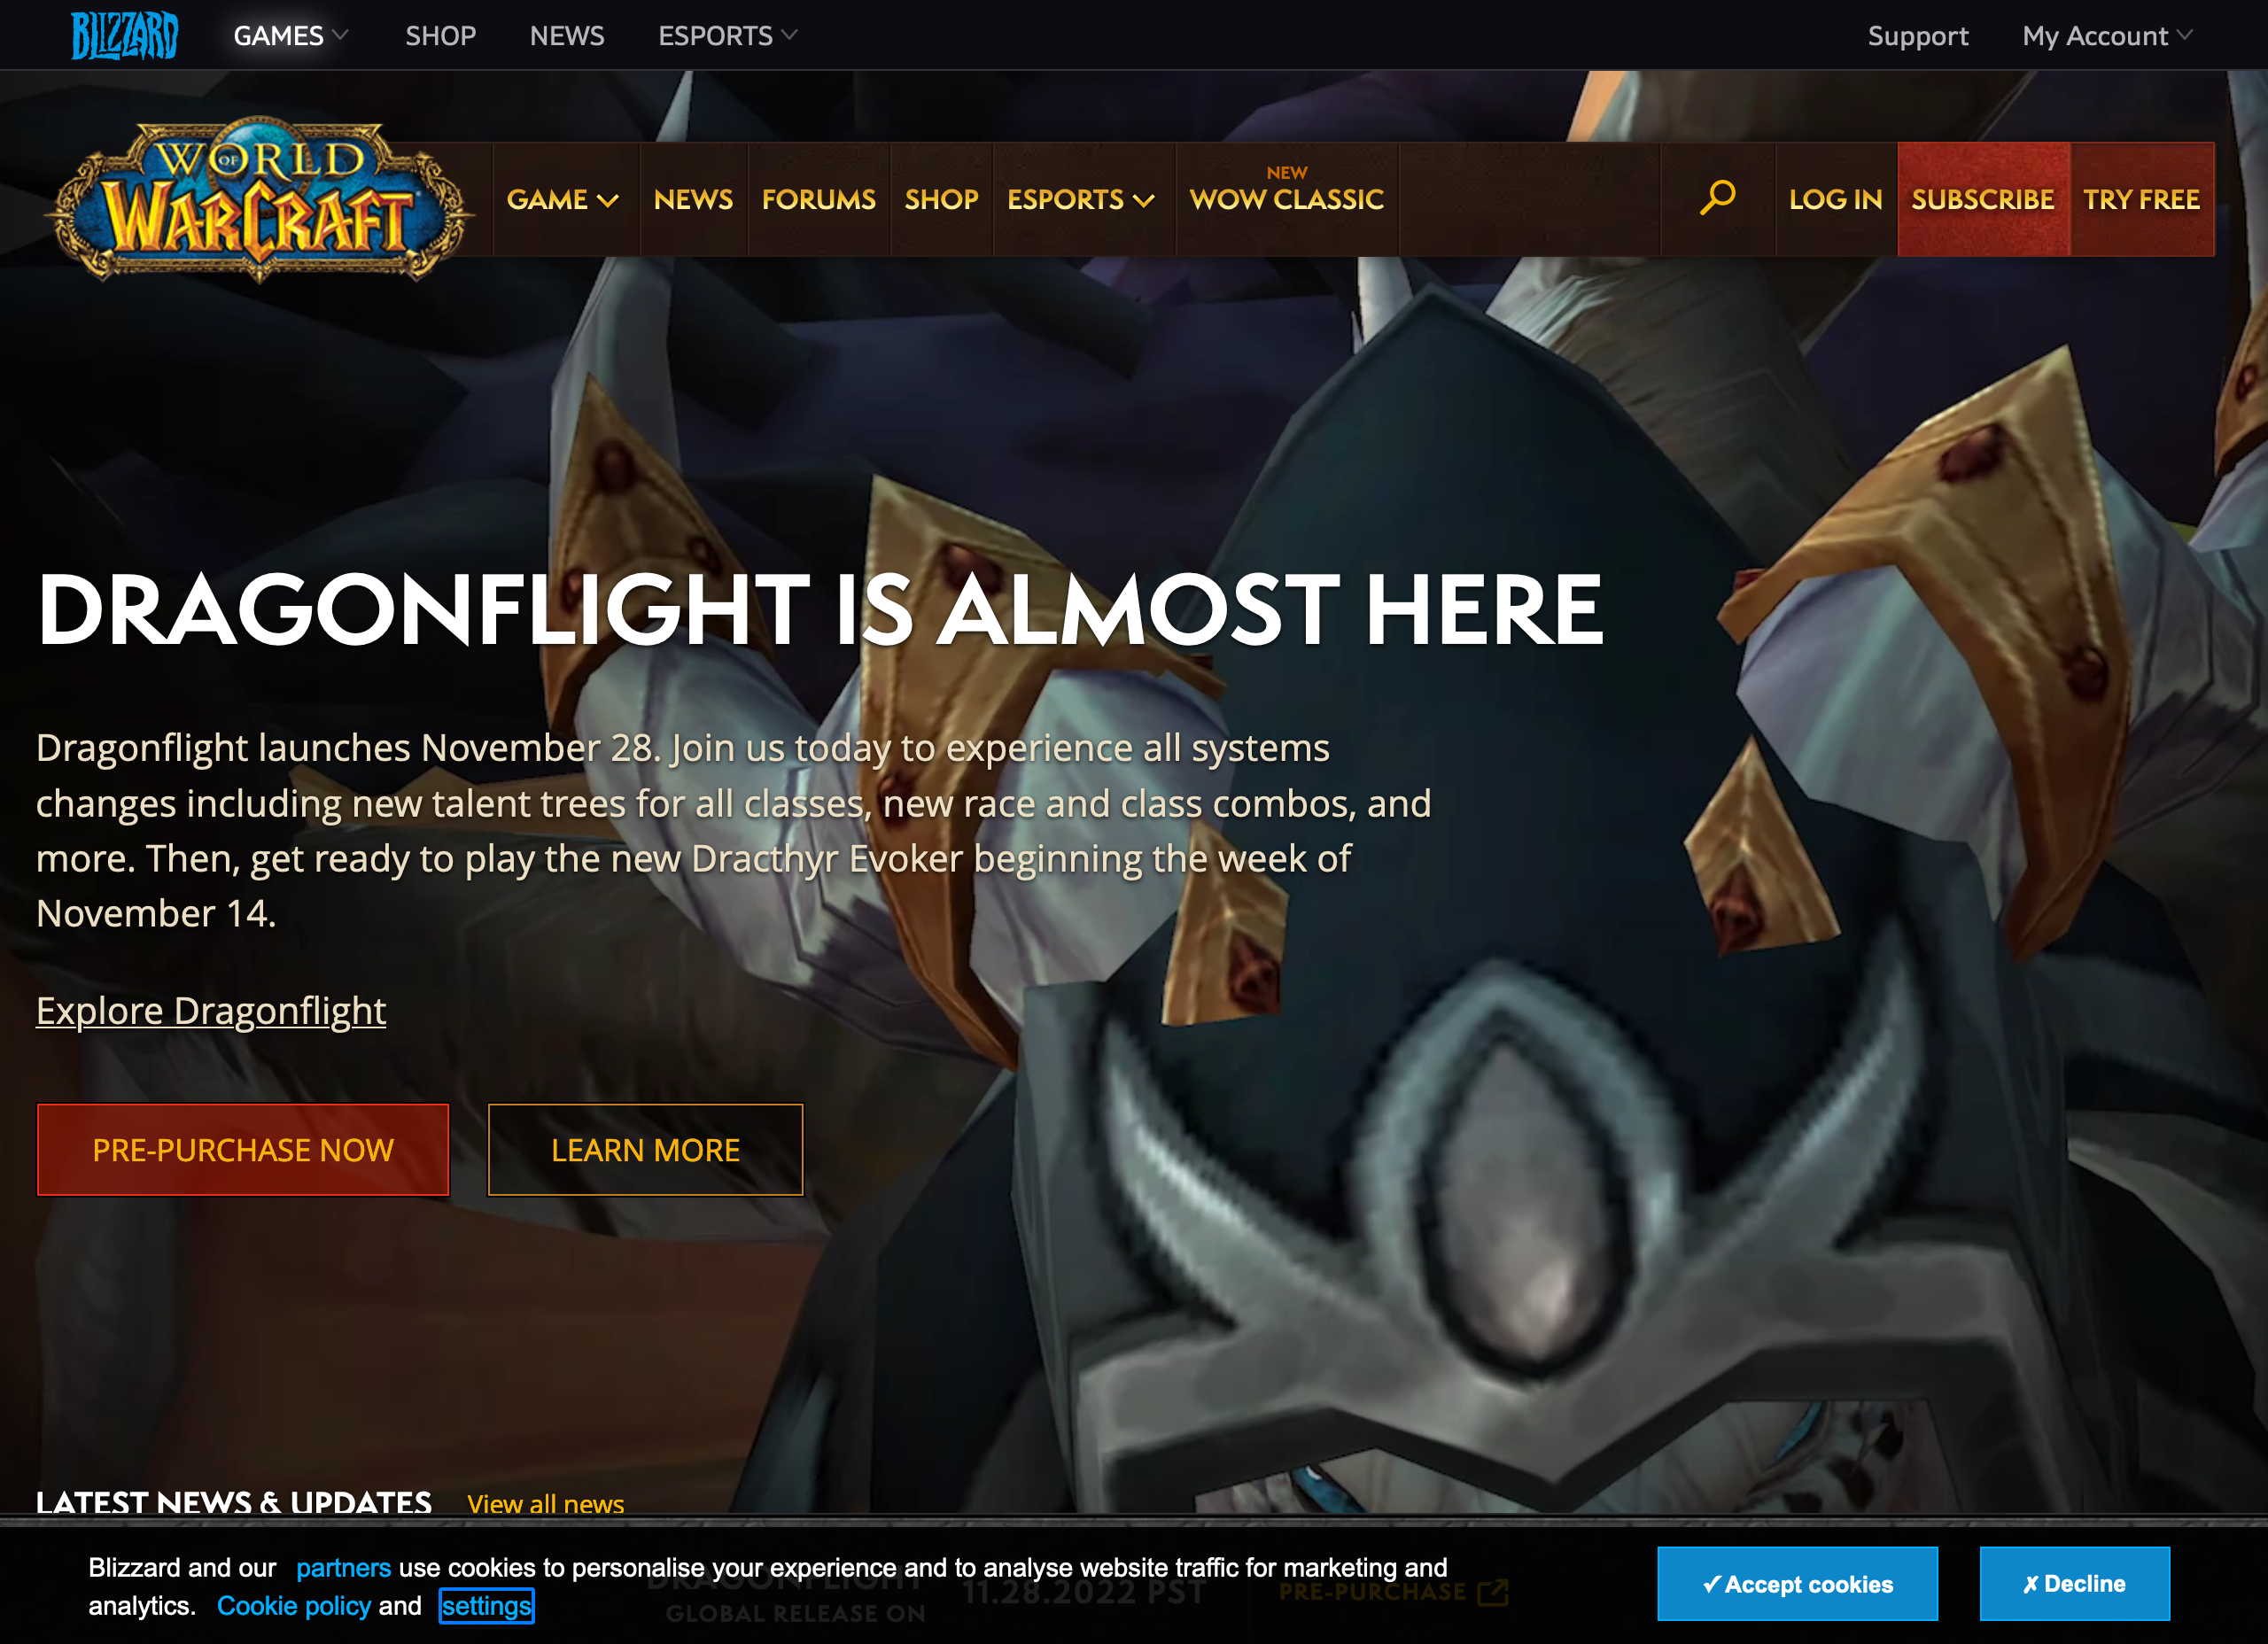Login: (1778, 169, 1889, 218)
